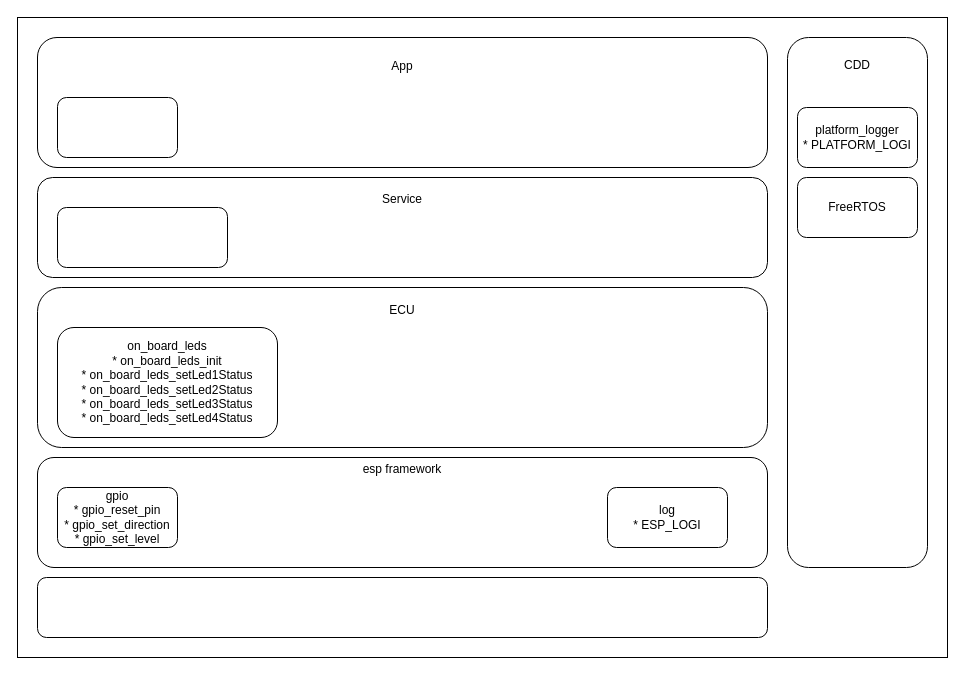
Image size: 965x675. Some labels were removed from this diagram. The centre of each missing label's shape, as x and y in pixels:
"ESP32 & CONNECT BOARD" goes at pixel 402 607.
"status_report * status_report_init * status_report_set_status" goes at pixel 142 237.
"SWC1 * swc1_init * swc1_task" goes at pixel 117 127.
